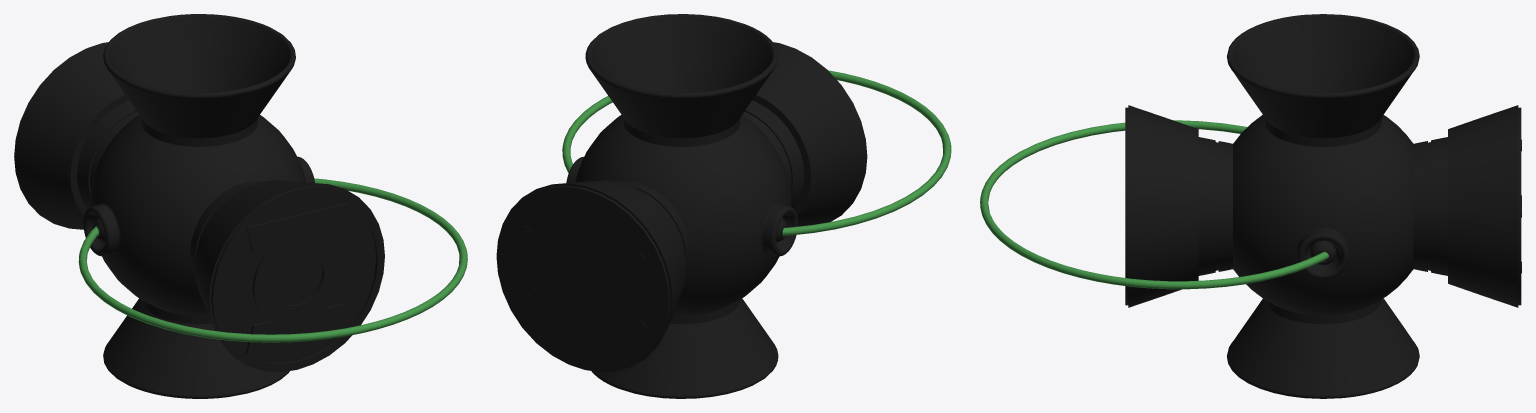
Rendered from Green Lantern Power Battery 1.fbx.
3 renders of one model, left to right at view 1: azimuth 30°, elevation 25°; view 2: azimuth 150°, elevation 25°; view 3: azimuth 270°, elevation 25°, orthographic.
Visible parts, largest first — view 1: Body1 (×2); view 2: Body1 (×2); view 3: Body1 (×2).
Part boxes in pixels (left/top/right/bottom): Body1 (×2): left=14, top=14, right=467, bottom=398; Body1 (×2): left=496, top=14, right=951, bottom=398; Body1 (×2): left=980, top=14, right=1521, bottom=398.
Size of the model in its own units: 265 by 230 by 370.
